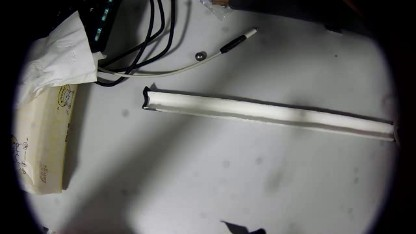gangzhu: (193, 50, 206, 61)
